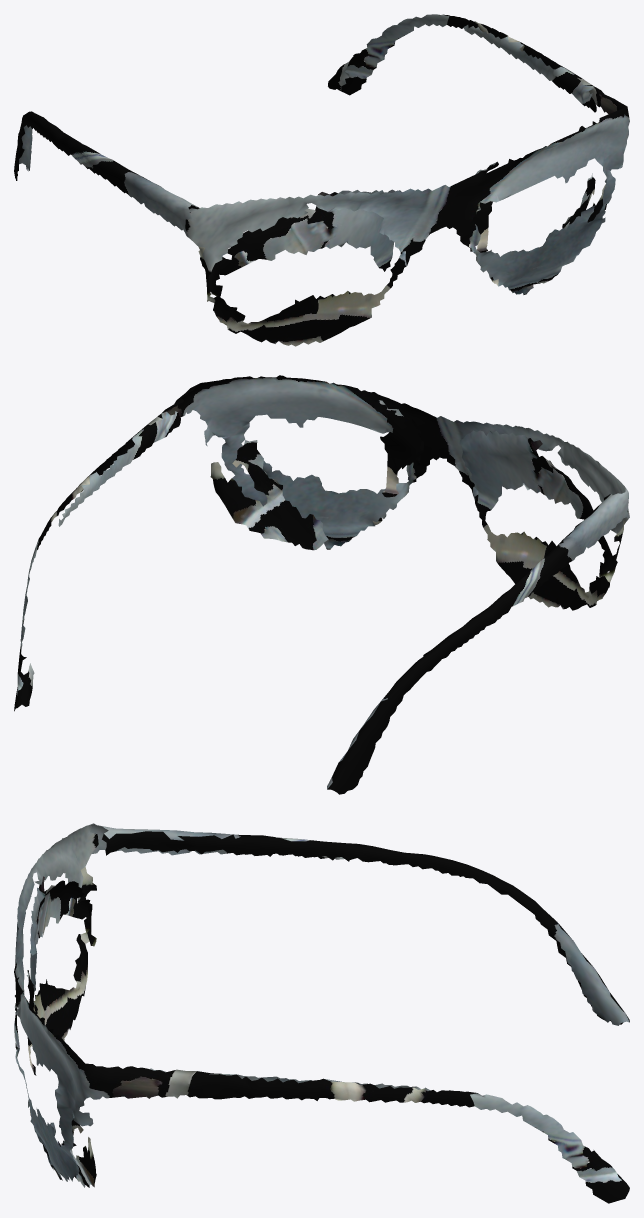
Rendered from scan_align.obj.
3 views of the same model, one above another, from view 1: azimuth 30°, elevation 25°; view 2: azimuth 150°, elevation 25°; view 3: azimuth 270°, elevation 25° (orthographic). The views are drawn at different scales.
Bounding box in the file's own units: 0.1392 × 0.0481 × 0.1472.
